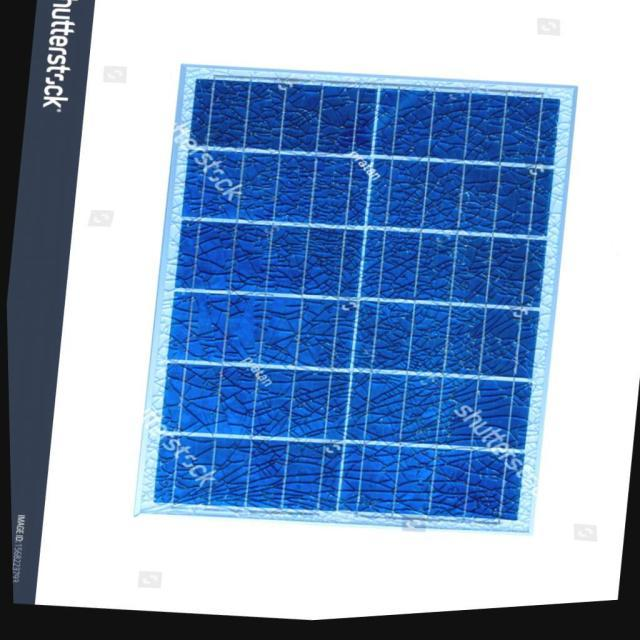cracked: (131, 62, 564, 534)
